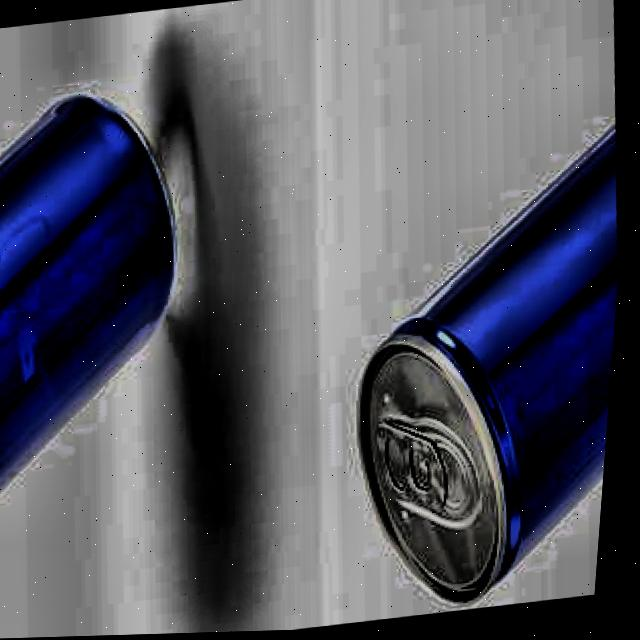metal: (298, 0, 639, 627), (0, 74, 241, 640)
